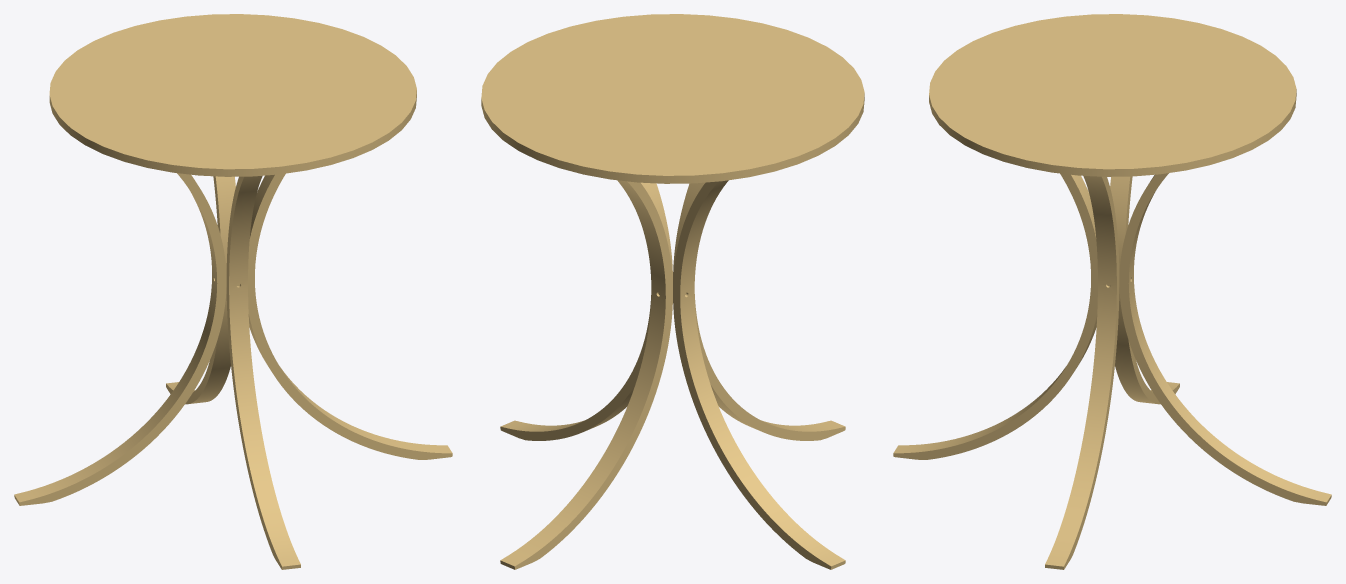
Rendered from IKEA-Fornbro_pedestal_table-3D.obj.
The picture shows the model from 3 angles, left to right: view 1: azimuth 30°, elevation 25°; view 2: azimuth 150°, elevation 25°; view 3: azimuth 270°, elevation 25°; orthographic projection. The views are drawn at different scales.
Parts seen in each view (by area): view 1: Loft03; view 2: Loft03; view 3: Loft03.
Part boxes in pixels (box(x1,y1,x2,y2)): Loft03: box(14, 14, 452, 569); Loft03: box(481, 14, 864, 569); Loft03: box(893, 14, 1331, 569).
Size of the model in its own units: 532 by 517 by 532.
